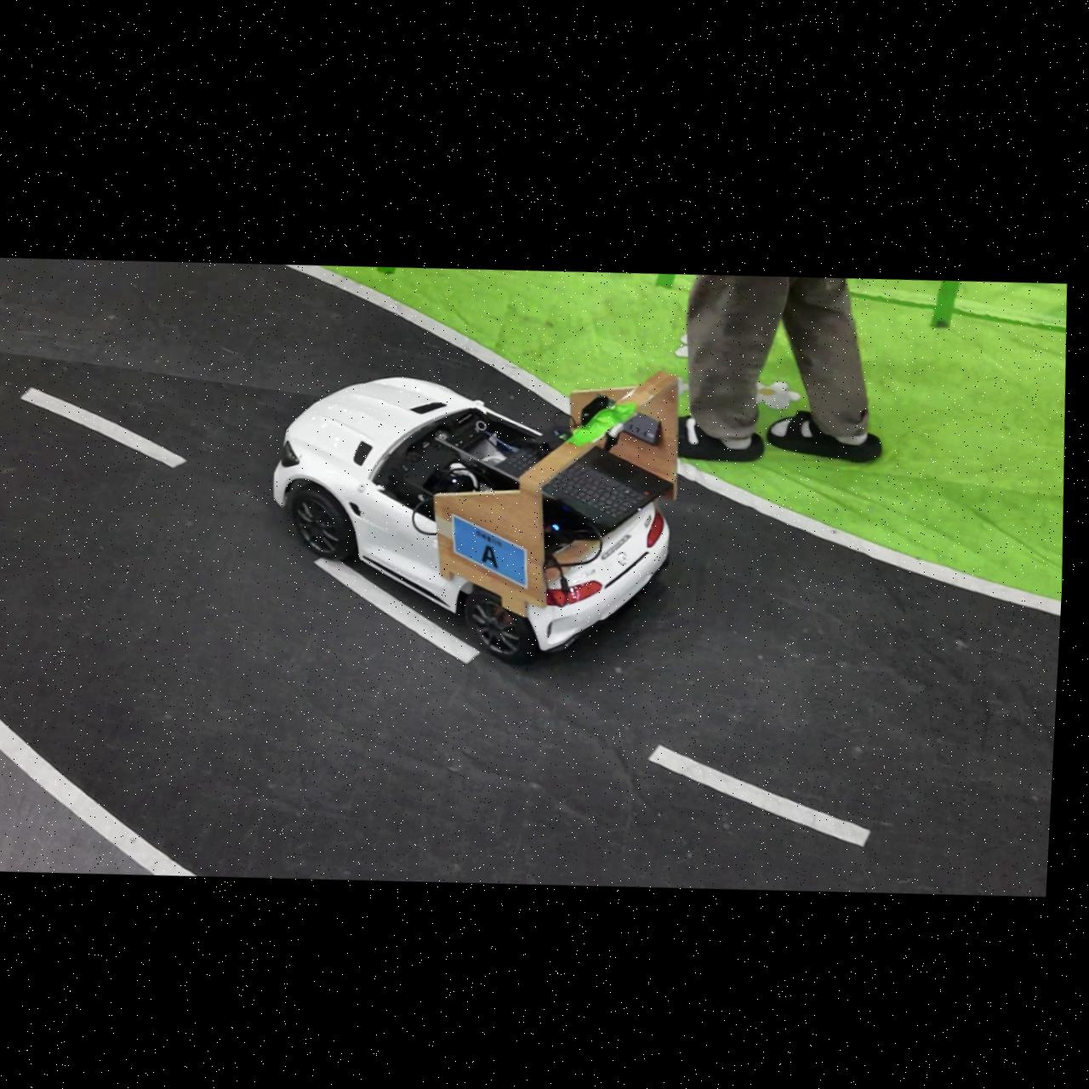broken_line: (648, 744, 870, 847), (314, 557, 480, 664), (20, 386, 187, 468)
